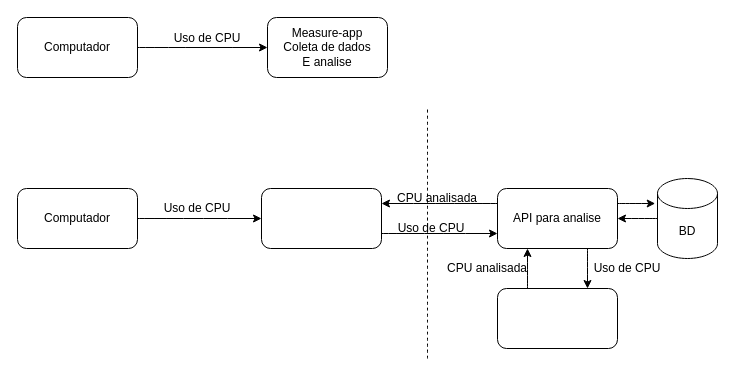
This 735x377 diagram has some shape labels left out. The box of each missing label's shape, as (x1, y1, x2, y2) in pixels:
IA: (496, 288, 618, 348)
Measure-app: (260, 188, 382, 248)
